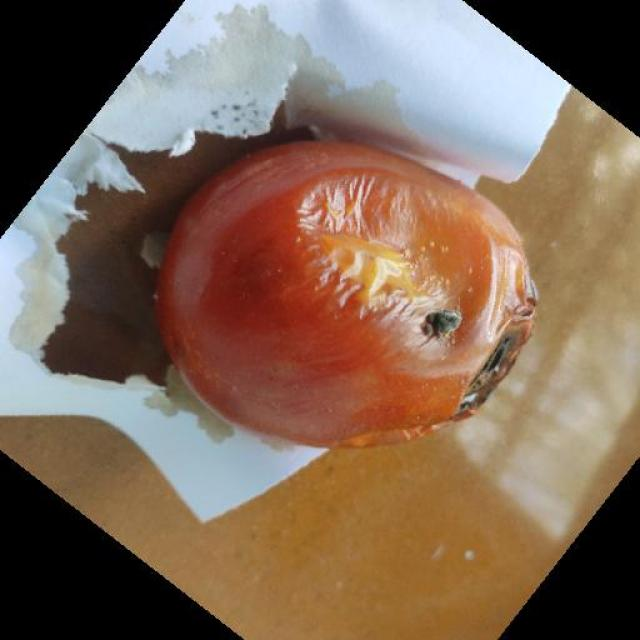Stale_tomato: (149, 135, 538, 450)
